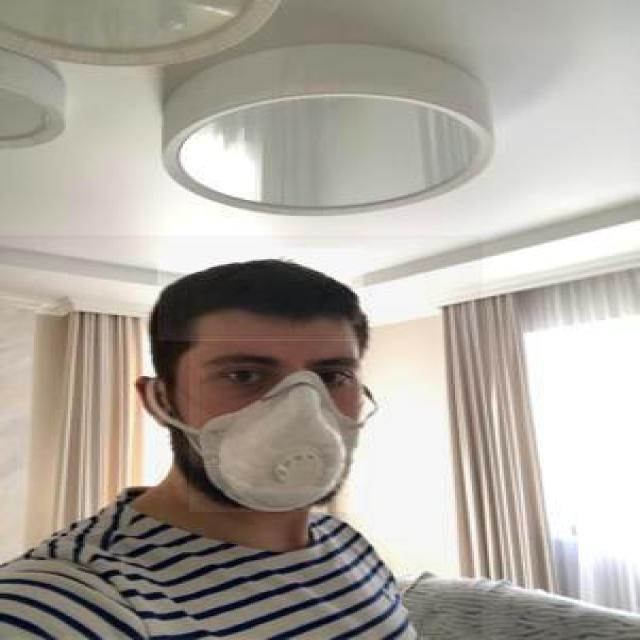face_mask: (190, 339, 362, 512)
head_nohelmet: (158, 248, 364, 341)
person: (0, 236, 485, 638)
